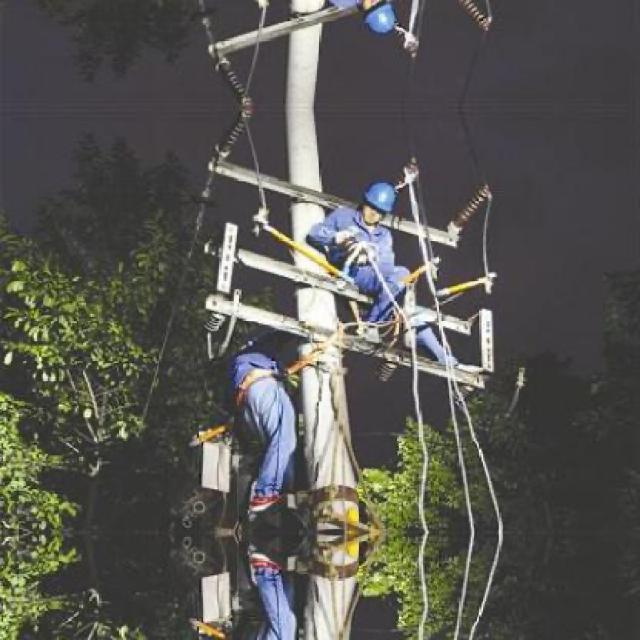con casco: (360, 170, 404, 235)
